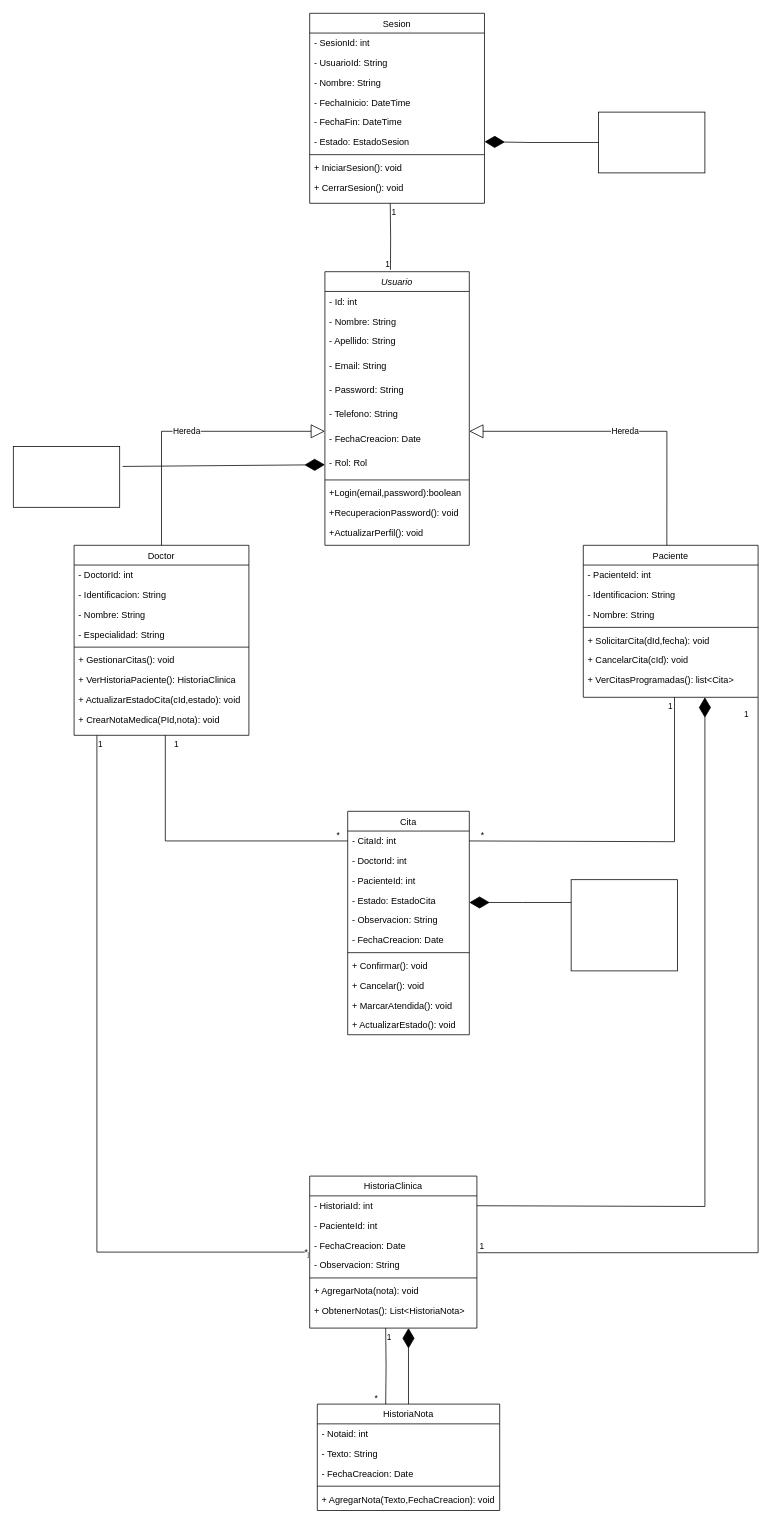
The diagram is 772 pixels wide and 1525 high, and some of its shapes have lost their labels. The shapes that lost their labels are listed below. From the top down, each one's centre as x and y in pixels, then its label:
(x=651, y=142): <<Enumeration>> EstadoSesion Activa Cerrada
(x=66, y=476): <<Enumeration>> Rol Doctor Paciente
(x=624, y=925): <<Enumeration>> EstadoCita Confirmada Cancelada Atendida Pendiente
